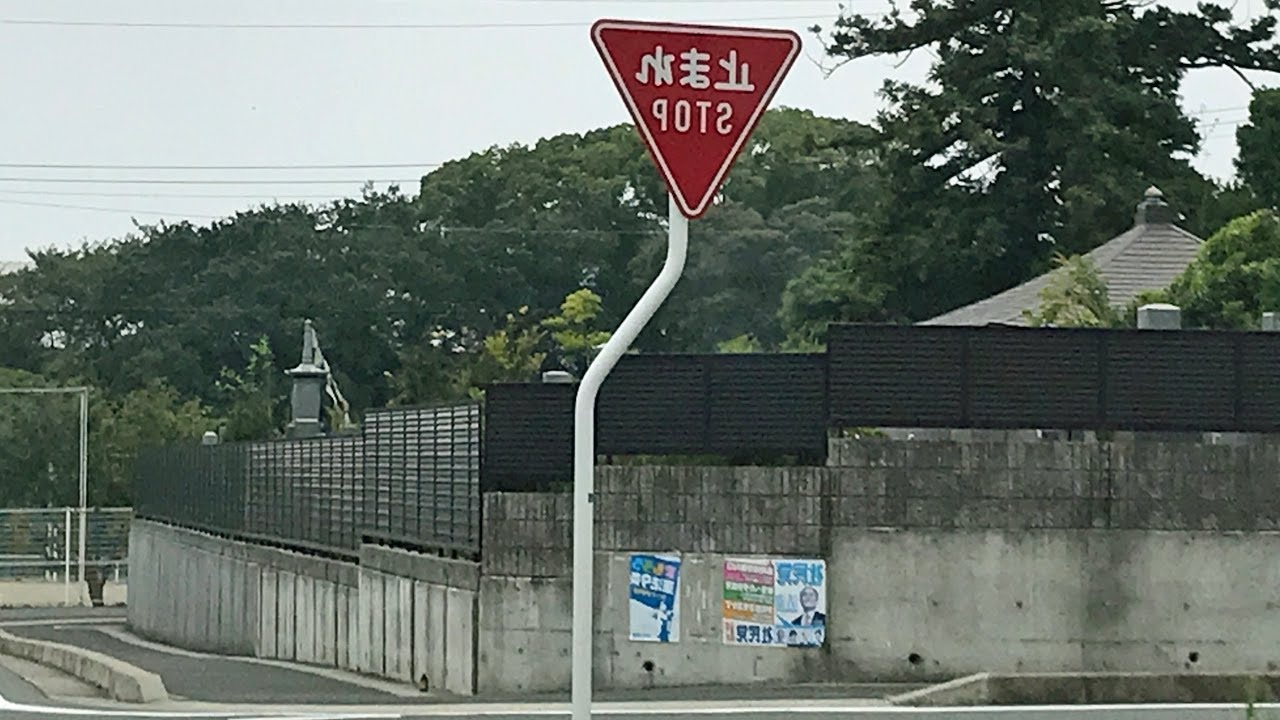Regulatory_sign_triangle: (586, 14, 811, 243)
